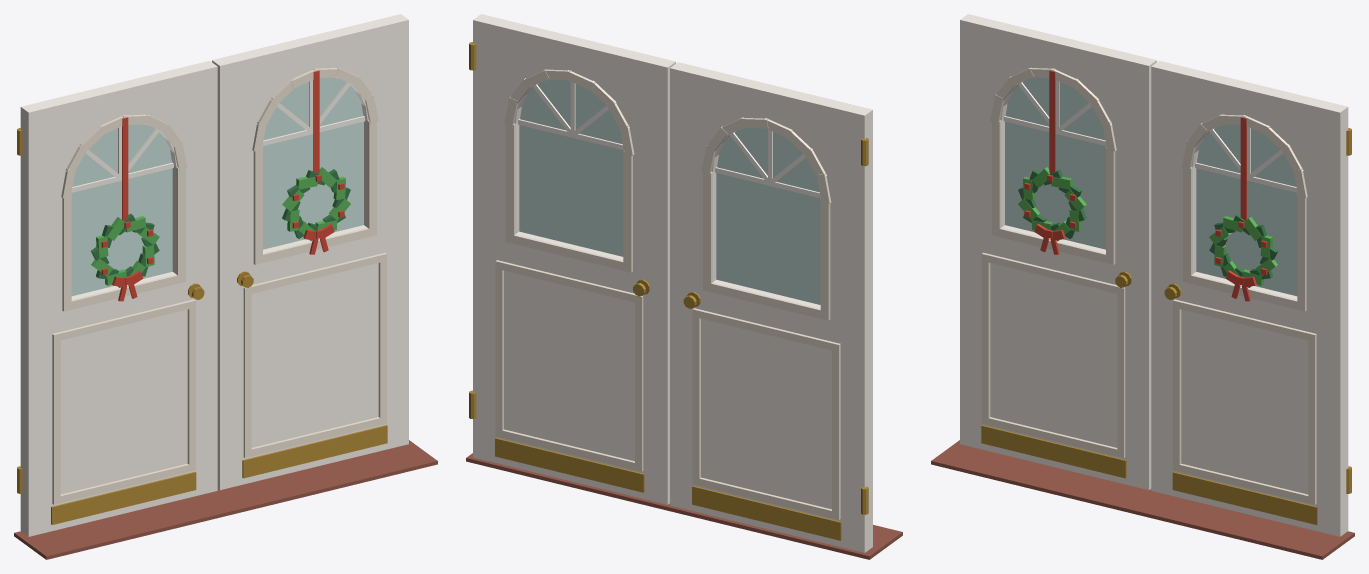
Rendered from CatCafe_Door_FrontPorch_Front.glb.
3 renders of one model, left to right at view 1: azimuth 30°, elevation 25°; view 2: azimuth 150°, elevation 25°; view 3: azimuth 330°, elevation 25°, orthographic. The views are drawn at different scales.
Parts seen in each view (by area): view 1: CatCafe_Door_FrontPorch_Front_LeafR, CatCafe_Door_FrontPorch_Front_LeafL, CatCafe_Door_FrontPorch_Front, CatCafe_Door_FrontPorch_Front_LeafR_Glass, CatCafe_Door_FrontPorch_Front_LeafL_Glass; view 2: CatCafe_Door_FrontPorch_Front_LeafR, CatCafe_Door_FrontPorch_Front_LeafL, CatCafe_Door_FrontPorch_Front_LeafL_Glass, CatCafe_Door_FrontPorch_Front_LeafR_Glass, CatCafe_Door_FrontPorch_Front; view 3: CatCafe_Door_FrontPorch_Front_LeafL, CatCafe_Door_FrontPorch_Front_LeafR, CatCafe_Door_FrontPorch_Front, CatCafe_Door_FrontPorch_Front_LeafL_Glass, CatCafe_Door_FrontPorch_Front_LeafR_Glass.
Part boxes in pixels (<box>): CatCafe_Door_FrontPorch_Front_LeafR: <box>17,60,217,536</box>; CatCafe_Door_FrontPorch_Front_LeafL: <box>212,14,408,489</box>; CatCafe_Door_FrontPorch_Front: <box>14,440,437,559</box>; CatCafe_Door_FrontPorch_Front_LeafR_Glass: <box>71,124,172,296</box>; CatCafe_Door_FrontPorch_Front_LeafL_Glass: <box>262,77,363,249</box>; CatCafe_Door_FrontPorch_Front_LeafR: <box>670,62,872,552</box>; CatCafe_Door_FrontPorch_Front_LeafL: <box>469,14,675,504</box>; CatCafe_Door_FrontPorch_Front_LeafL_Glass: <box>519,79,623,256</box>; CatCafe_Door_FrontPorch_Front_LeafR_Glass: <box>716,128,820,304</box>; CatCafe_Door_FrontPorch_Front: <box>466,453,902,559</box>; CatCafe_Door_FrontPorch_Front_LeafL: <box>1151,60,1351,536</box>; CatCafe_Door_FrontPorch_Front_LeafR: <box>960,14,1156,489</box>; CatCafe_Door_FrontPorch_Front: <box>931,440,1354,559</box>; CatCafe_Door_FrontPorch_Front_LeafL_Glass: <box>1196,124,1297,296</box>; CatCafe_Door_FrontPorch_Front_LeafR_Glass: <box>1005,77,1106,249</box>.
Size of the model in its own units: 7 by 7.33 by 1.12.
1 material, 1 textured.
